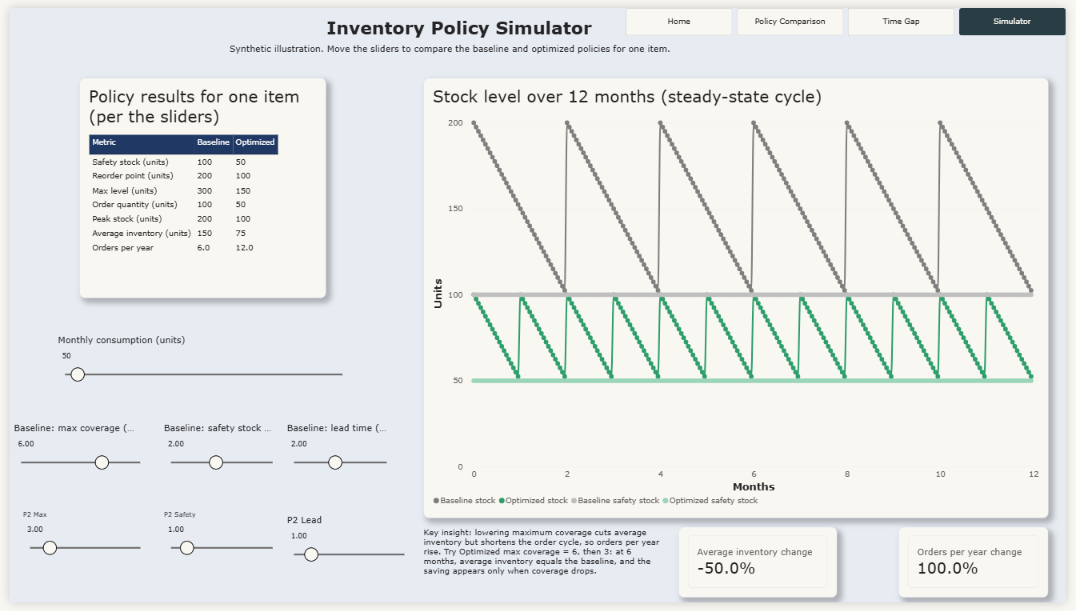

The dashboard page shown, as its layout file describes it:
{"tool":"powerbi","page":{"name":"Simulator","canvas":[1920,1080],"ordinal":3},"visuals":[{"type":"slicer","fields":{"Values":["Consumption.Consumption"]},"box":[80,592,544,144],"z":0},{"type":"slicer","fields":{"Values":["P1 Lead.P1 Lead"]},"box":[496,752,208,160],"z":1000},{"type":"slicer","fields":{"Values":["P1 Safety.P1 Safety"]},"box":[272,752,224,160],"z":2000},{"type":"slicer","fields":{"Values":["P1 Max.P1 Max"]},"box":[0,752,256,160],"z":3000},{"type":"slicer","fields":{"Values":["P2 Lead.P2 Lead"]},"box":[496,920,240,160],"z":4000},{"type":"slicer","fields":{"Values":["P2 Safety.P2 Safety"]},"box":[272,912,224,128],"z":5000},{"type":"slicer","fields":{"Values":["P2 Max.P2 Max"]},"box":[16,912,240,128],"z":6000},{"type":"lineChart","title":"Stock level over 12 months (steady-state cycle)","fields":{"Category":["Sim_Time.Month"],"Y":["Consumption.Sim Stock P1","Consumption.Sim Stock P2","Consumption.Sim SS P1","Consumption.Sim SS P2"]},"box":[752,128,1136,800],"z":7000},{"type":"cardVisual","fields":{"Data":["Consumption.Sim Avg Inventory Change %"]},"box":[1216,944,288,128],"z":8000},{"type":"cardVisual","fields":{"Data":["Consumption.Sim Orders Change %"]},"box":[1616,944,272,128],"z":9000},{"type":"tableEx","title":"Policy results for one item (per the sliders)","fields":{"Values":["Sim_Metrics.Metric","Consumption.Sim Table Baseline","Consumption.Sim Table Optimized"]},"box":[128,128,448,400],"z":10000},{"type":"textbox","box":[576,16,528,48],"z":11000},{"type":"textbox","box":[400,64,896,80],"z":12000},{"type":"textbox","box":[752,944,432,112],"z":14000},{"type":"pageNavigator","box":[1120,0,800,50],"z":14001}]}

Visuals, with their boxes in screenshot pixels (x1, y1, x2, y2), scaled from the page's 1920x1080 canvas onto the 1076x611 screenshot:
slicer - Consumption.Consumption: [left=45, top=335, right=350, bottom=416]
slicer - P1 Lead.P1 Lead: [left=278, top=425, right=395, bottom=516]
slicer - P1 Safety.P1 Safety: [left=152, top=425, right=278, bottom=516]
slicer - P1 Max.P1 Max: [left=0, top=425, right=143, bottom=516]
slicer - P2 Lead.P2 Lead: [left=278, top=520, right=412, bottom=610]
slicer - P2 Safety.P2 Safety: [left=152, top=516, right=278, bottom=588]
slicer - P2 Max.P2 Max: [left=9, top=516, right=143, bottom=588]
"Stock level over 12 months (steady-state cycle)" lineChart: [left=421, top=72, right=1058, bottom=525]
cardVisual - Consumption.Sim Avg Inventory Change %: [left=681, top=534, right=843, bottom=606]
cardVisual - Consumption.Sim Orders Change %: [left=906, top=534, right=1058, bottom=606]
"Policy results for one item (per the sliders)" tableEx: [left=72, top=72, right=323, bottom=299]
textbox: [left=323, top=9, right=619, bottom=36]
textbox: [left=224, top=36, right=726, bottom=81]
textbox: [left=421, top=534, right=664, bottom=597]
pageNavigator: [left=628, top=0, right=1075, bottom=28]
